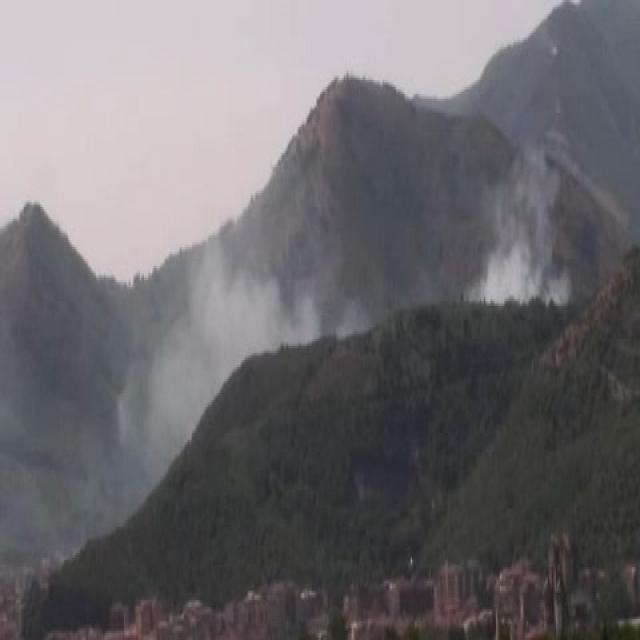smoke: (169, 242, 325, 363), (470, 172, 572, 300)
